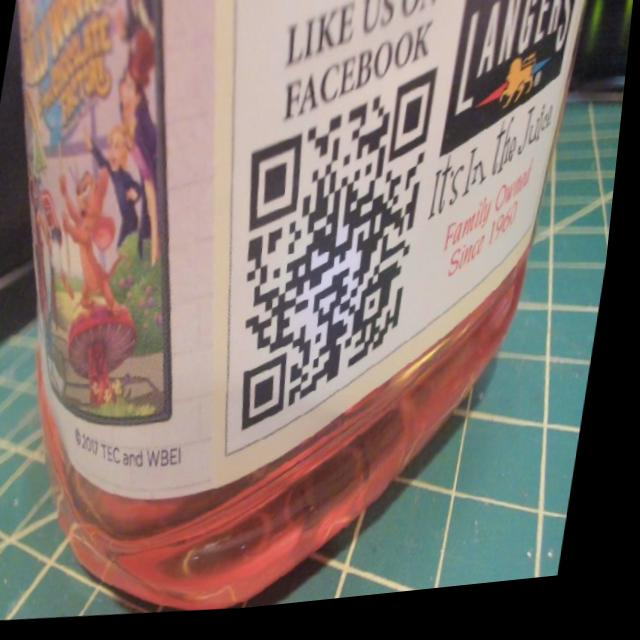QR_CODE: (202, 54, 459, 464)
